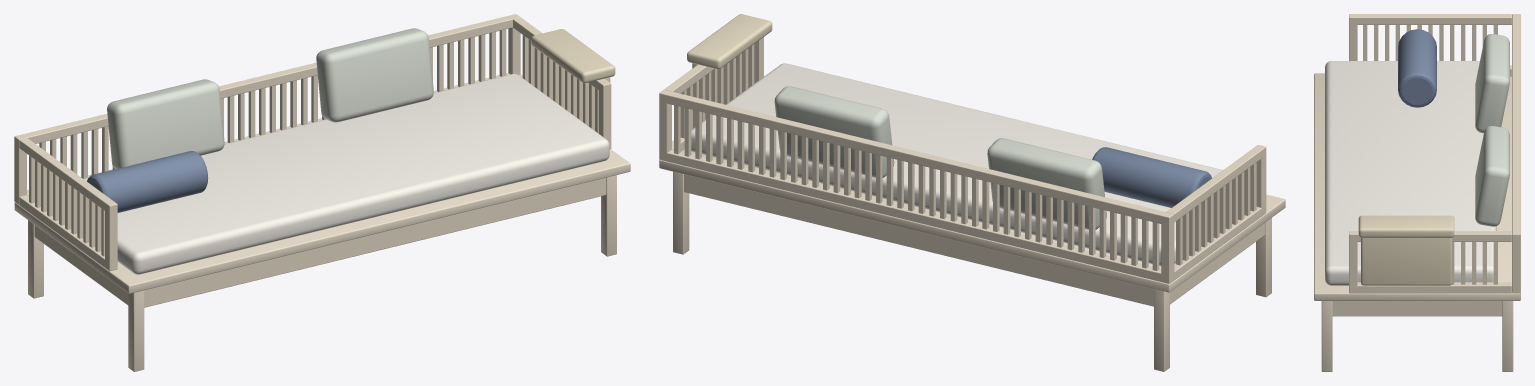
File: sg_sofa.glb
3 renders of one model, left to right at view 1: azimuth 30°, elevation 25°; view 2: azimuth 150°, elevation 25°; view 3: azimuth 270°, elevation 25°, orthographic. The views are drawn at different scales.
Visible parts, largest first — view 1: cushion, top, frame, apron, back1, back0, backslats, bolster, armslats0, armslats1, throw, leg00 (+2 smaller); view 2: cushion, frame, backslats, apron, top, back0, back1, bolster, armslats0, throw, armslats1, leg01 (+2 smaller); view 3: cushion, frame, top, throwdrop, back1, back0, bolster, apron, throw, armslats0, armslats1, leg10 (+1 smaller).
Boxes of the visible parts, box(x1,y1,x2,y2) form: cushion: box(83, 73, 609, 274); top: box(14, 149, 630, 293); frame: box(14, 14, 611, 271); apron: box(34, 177, 606, 307); back1: box(316, 28, 433, 122); back0: box(107, 79, 224, 169); backslats: box(39, 29, 506, 178); bolster: box(87, 151, 208, 212); armslats0: box(29, 155, 104, 256); armslats1: box(522, 35, 598, 133); throw: box(531, 29, 615, 83); leg00: box(128, 290, 144, 371); cushion: box(691, 63, 1222, 266); frame: box(659, 37, 1266, 283); backslats: box(674, 105, 1159, 270); apron: box(684, 174, 1265, 306); top: box(659, 149, 1285, 292); back0: box(987, 138, 1106, 229); back1: box(774, 86, 894, 177); bolster: box(1092, 147, 1211, 207); armslats0: box(1176, 162, 1256, 265); throw: box(687, 14, 772, 69); armslats1: box(680, 44, 754, 138); leg01: box(1154, 289, 1169, 371); cushion: box(1325, 61, 1496, 285); frame: box(1349, 14, 1520, 293); top: box(1314, 73, 1520, 300); throwdrop: box(1361, 237, 1452, 285); back1: box(1475, 126, 1509, 226); back0: box(1475, 34, 1509, 133); bolster: box(1398, 29, 1436, 107); apron: box(1332, 301, 1502, 316); throw: box(1358, 215, 1454, 237); armslats0: box(1363, 25, 1497, 60); armslats1: box(1452, 242, 1497, 284); leg10: box(1321, 301, 1332, 371).
Size of the model in its own units: 2.45 by 0.8173 by 0.95.
